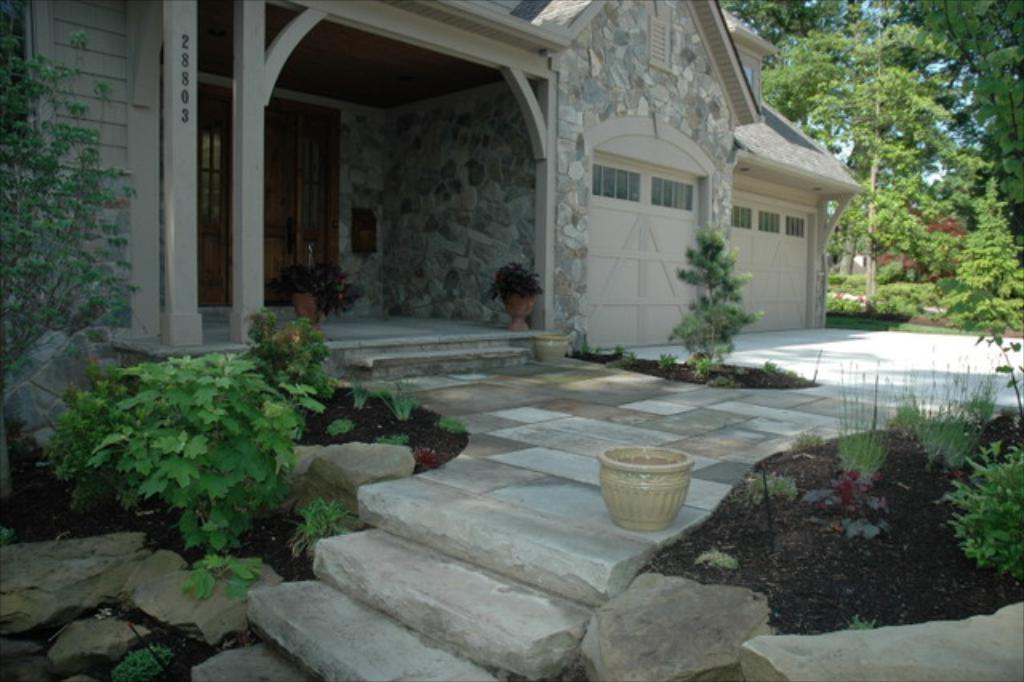Tree: (720, 0, 1024, 317)
